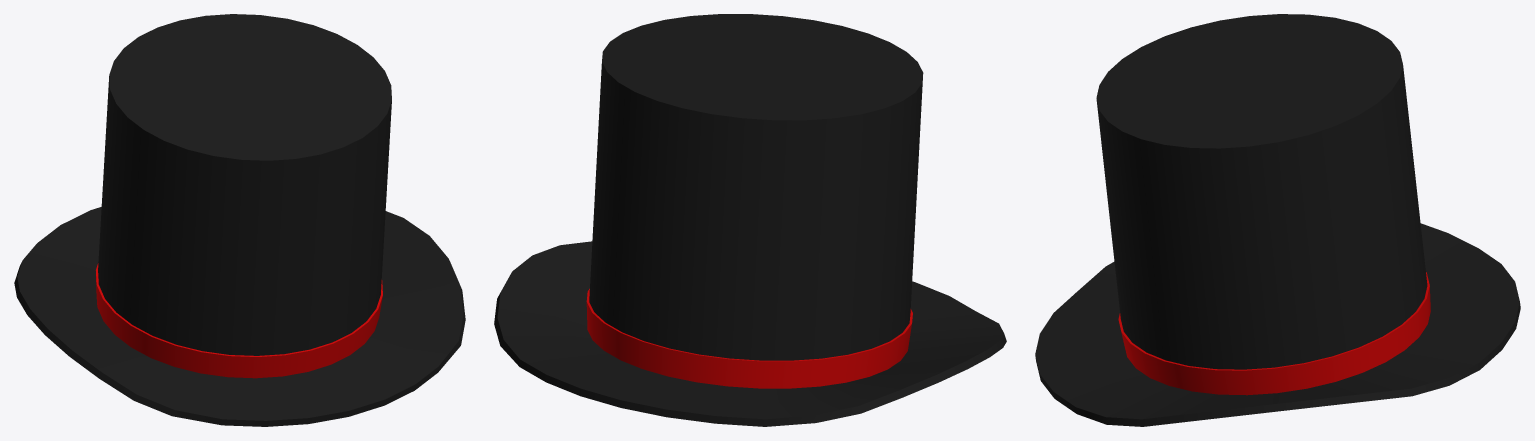
Rendered from tophat_basic_with_red.glb.
The picture shows the model from 3 angles, left to right: view 1: azimuth 30°, elevation 25°; view 2: azimuth 150°, elevation 25°; view 3: azimuth 270°, elevation 25°; orthographic projection. The views are drawn at different scales.
Visible parts, largest first — view 1: 0.131, 1.076; view 2: 0.131, 1.076; view 3: 0.131, 1.076.
Boxes of the visible parts, <box> form: 0.131: <box>14,14,465,426</box>; 1.076: <box>95,263,382,378</box>; 0.131: <box>494,14,1006,426</box>; 1.076: <box>586,288,912,388</box>; 0.131: <box>1035,14,1520,426</box>; 1.076: <box>1118,272,1430,395</box>.
Bounding box in the file's own units: 0.6292 × 0.4242 × 0.6289.
